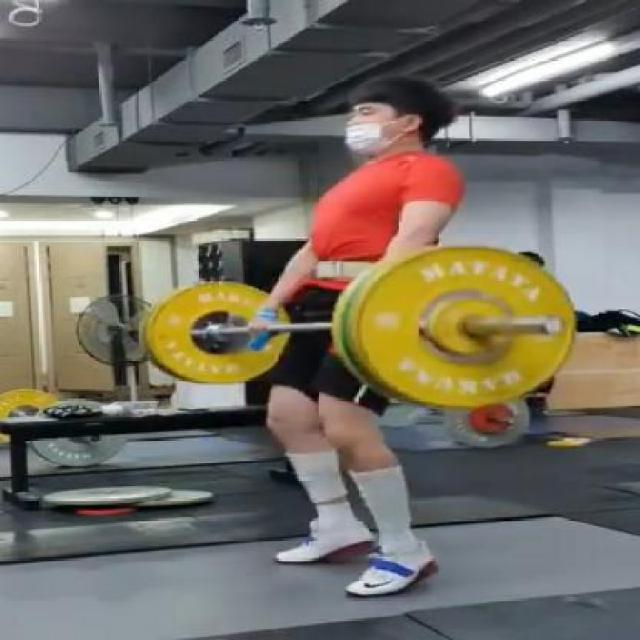Barbell: (532, 310, 570, 342)
